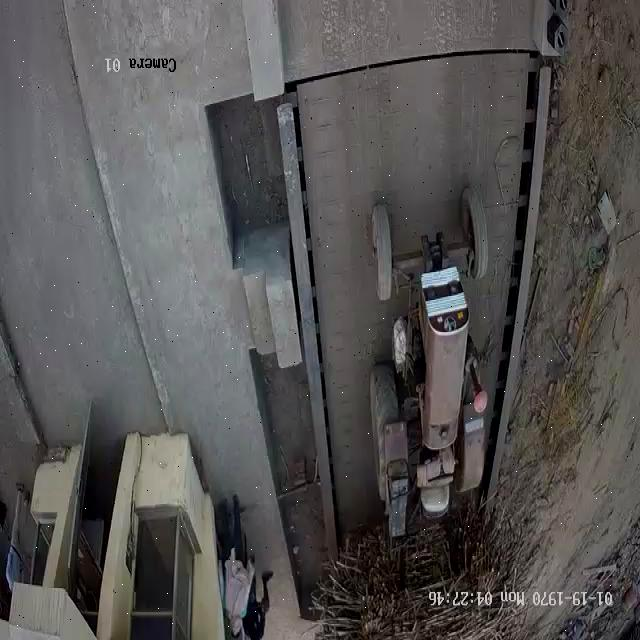Tratores - v5 YOLO V8L 2024-11-13: (369, 185, 482, 514)
